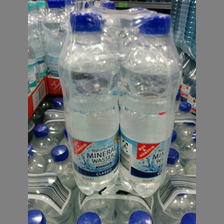water: (115, 12, 179, 199), (62, 12, 121, 195)
